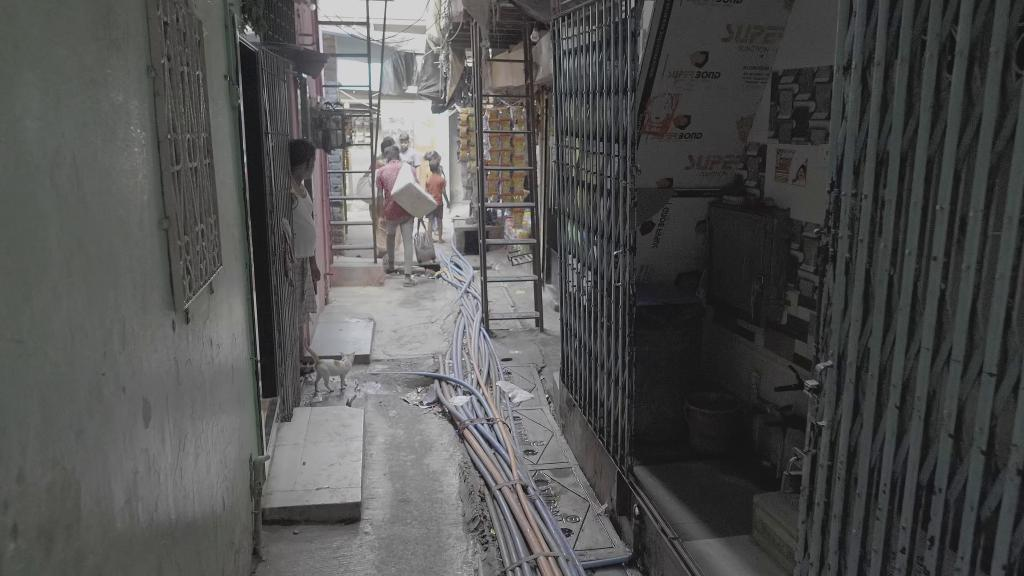garbage: (499, 378, 535, 405), (446, 391, 469, 405)
